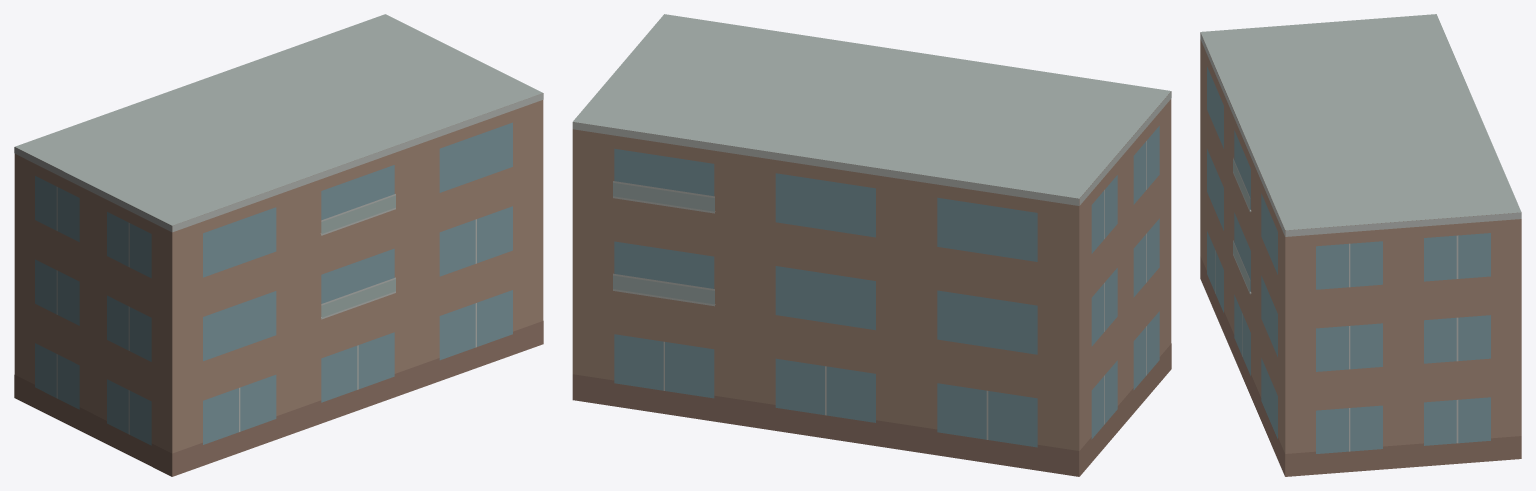
Rendered from survey-upis-32706520.glb.
The picture shows the model from 3 angles, left to right: view 1: azimuth 30°, elevation 25°; view 2: azimuth 150°, elevation 25°; view 3: azimuth 270°, elevation 25°; orthographic projection. The views are drawn at different scales.
Visible parts, largest first — view 1: survey-upis-32706520.tmp; view 2: survey-upis-32706520.tmp; view 3: survey-upis-32706520.tmp.
Part boxes in pixels (x1,y1,x2,y2): survey-upis-32706520.tmp: [14, 14, 543, 476]; survey-upis-32706520.tmp: [572, 14, 1171, 476]; survey-upis-32706520.tmp: [1200, 14, 1521, 476].
Size of the model in its own units: 17.24 by 9.15 by 10.82.
